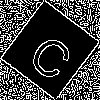C: (25, 24, 82, 84)
